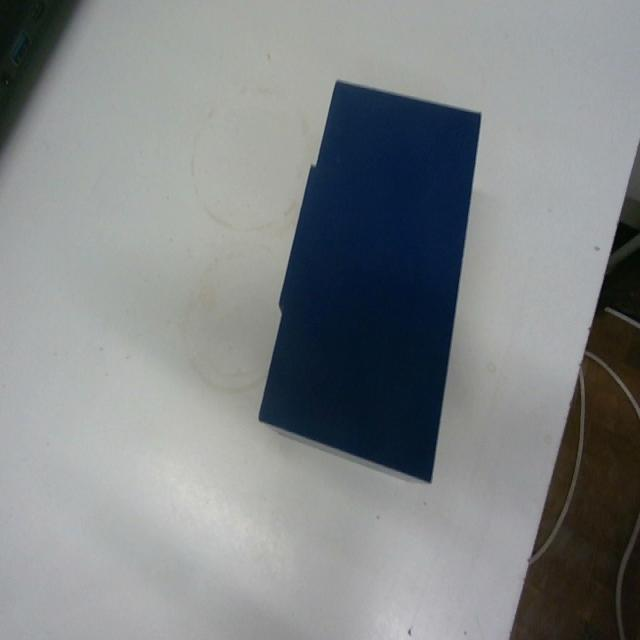Blue Cuboid: (256, 76, 482, 485)
